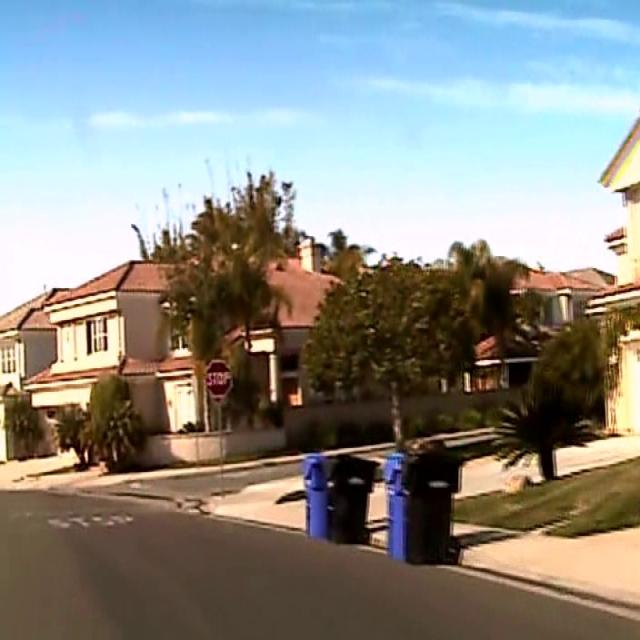stop_sign: (204, 358, 232, 398)
